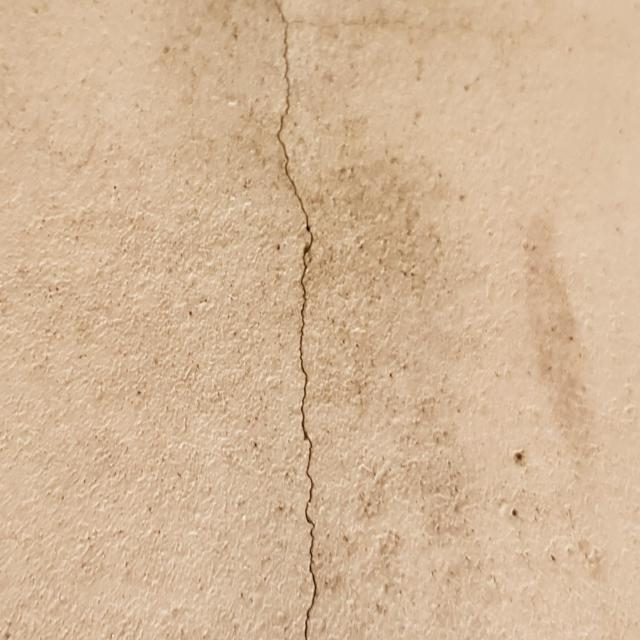SurfaceCrack: (235, 1, 371, 640)
